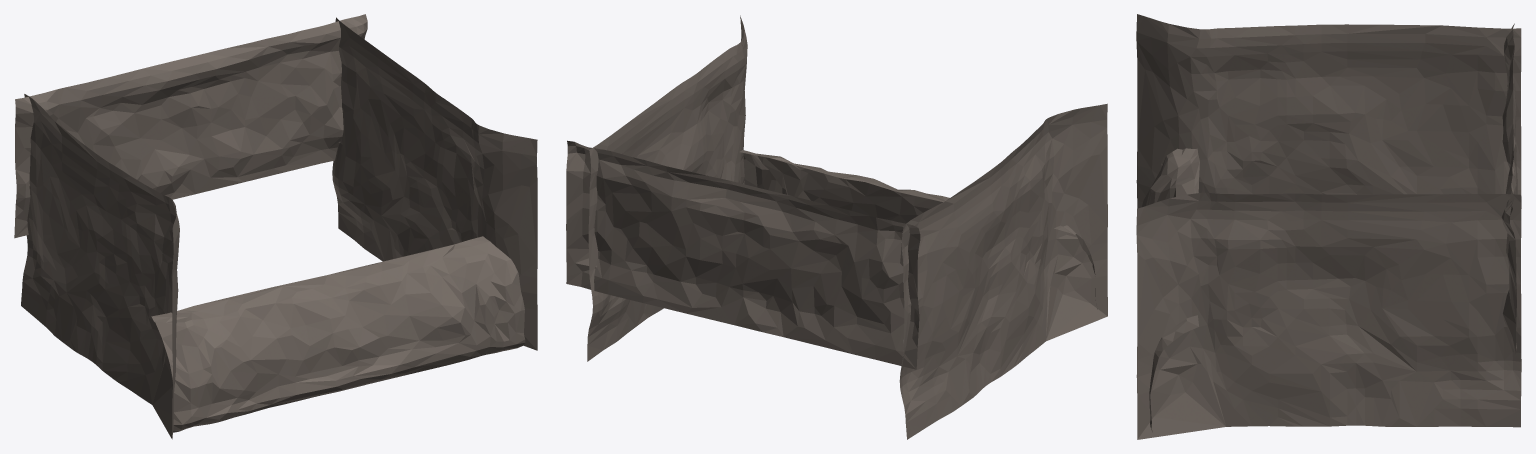
Rendered from Asteroid_Wall.fbx.
The picture shows the model from 3 angles, left to right: view 1: azimuth 30°, elevation 25°; view 2: azimuth 150°, elevation 25°; view 3: azimuth 270°, elevation 25°; orthographic projection. The views are drawn at different scales.
Parts seen in each view (by area): view 1: Asteroid_Wall; view 2: Asteroid_Wall; view 3: Asteroid_Wall.
Boxes of the visible parts, bbox=[...] form: Asteroid_Wall: bbox=[14, 14, 537, 439]; Asteroid_Wall: bbox=[566, 15, 1107, 439]; Asteroid_Wall: bbox=[1136, 14, 1521, 439].
Bounding box in the file's own units: 43843 × 24264 × 36531.
